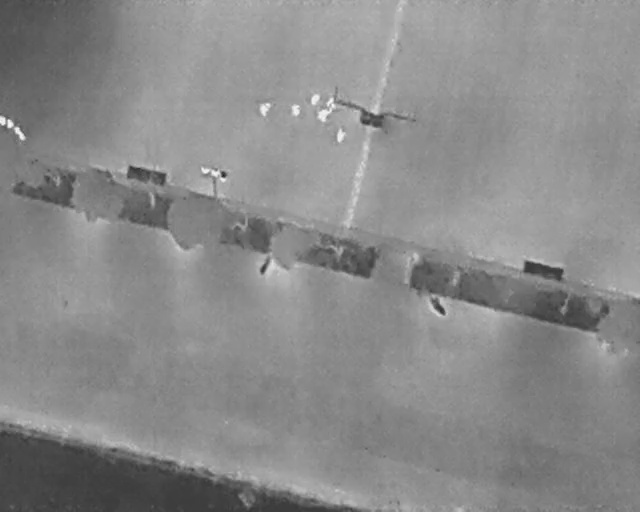Person: (317, 109, 329, 123), (259, 102, 269, 117), (336, 128, 346, 143), (291, 104, 301, 118), (311, 94, 320, 106), (327, 96, 336, 108)
